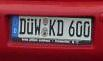0: (76, 20, 83, 38), (83, 20, 90, 37)
6: (67, 19, 76, 37)
D: (56, 18, 64, 37), (19, 18, 26, 35)
K: (49, 18, 56, 37)
W: (34, 18, 42, 35)
ue: (26, 18, 34, 35)
